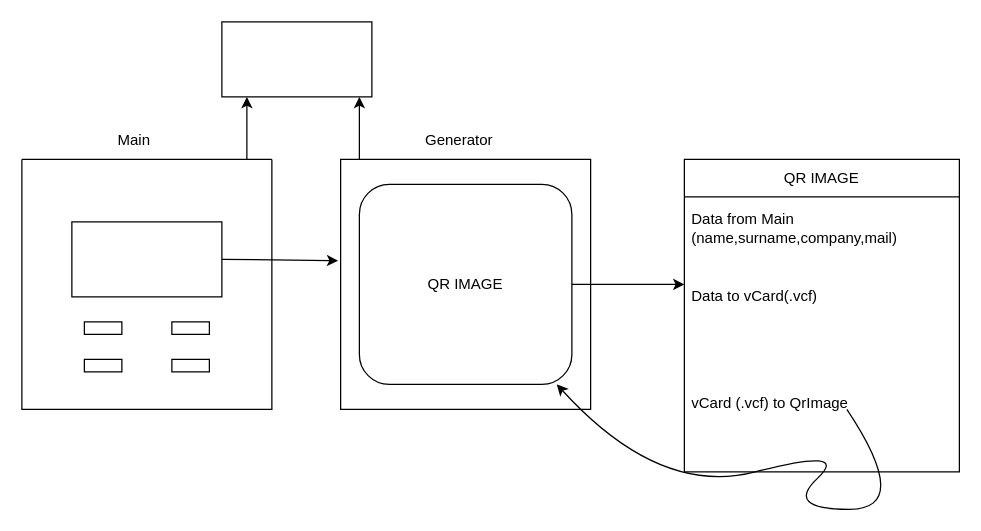
Some shapes in this 981 by 531 pixel diagram are drawn without their labels. Here are the shapes that lost their labels. From the top down, the centre of each, then its label:
At [296,59]: "FORM".
At [146,259]: "GENERATE".
